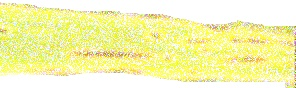Bacterial_Leaf_Blight: (210, 47, 274, 68), (181, 37, 295, 46), (67, 49, 153, 57), (136, 25, 171, 42), (0, 19, 13, 40), (164, 50, 174, 62)
